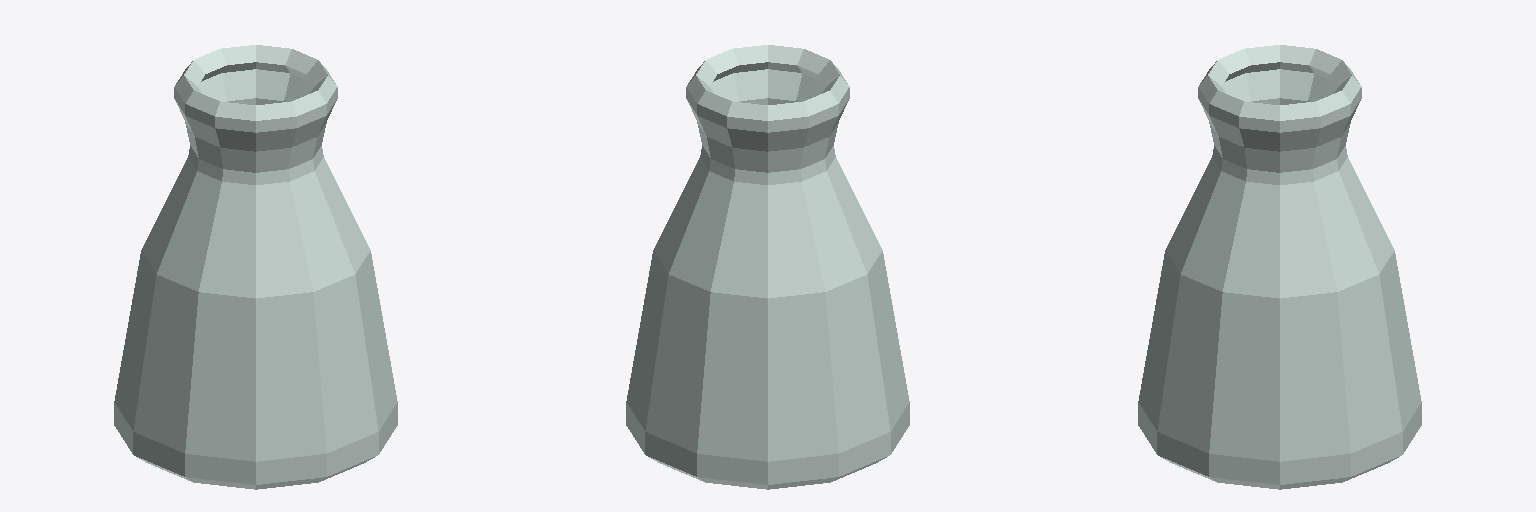
3 renders of one model, left to right at view 1: azimuth 30°, elevation 25°; view 2: azimuth 150°, elevation 25°; view 3: azimuth 270°, elevation 25°, orthographic.
Parts seen in each view (by area): view 1: group[number redacted]; view 2: group[number redacted]; view 3: group[number redacted].
Part boxes in pixels (bbox=[...]): group[number redacted]: bbox=[114, 45, 397, 489]; group[number redacted]: bbox=[626, 45, 909, 489]; group[number redacted]: bbox=[1138, 45, 1421, 489].
Size of the model in its own units: 0.22 by 0.31 by 0.22.